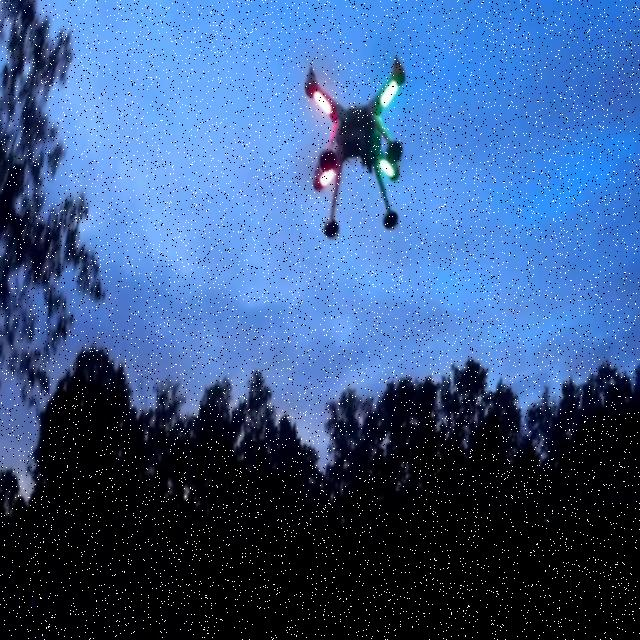UAV: (304, 57, 406, 237)
